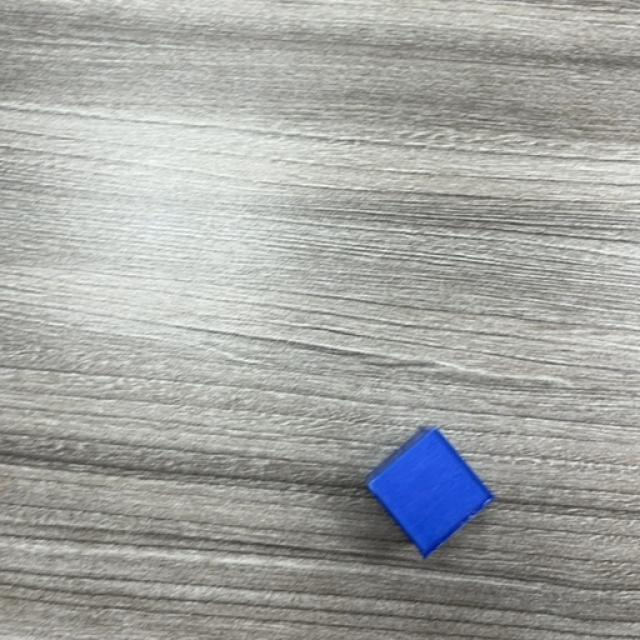Azul: (366, 426, 496, 560)
